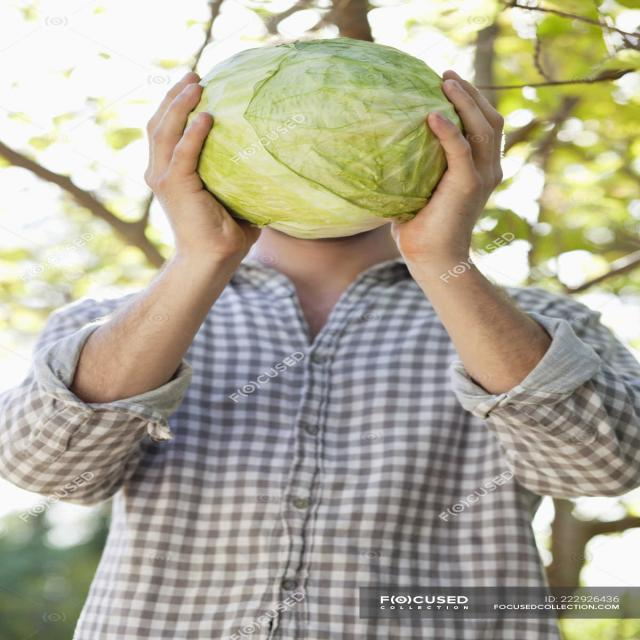cabbage: (185, 38, 451, 236)
